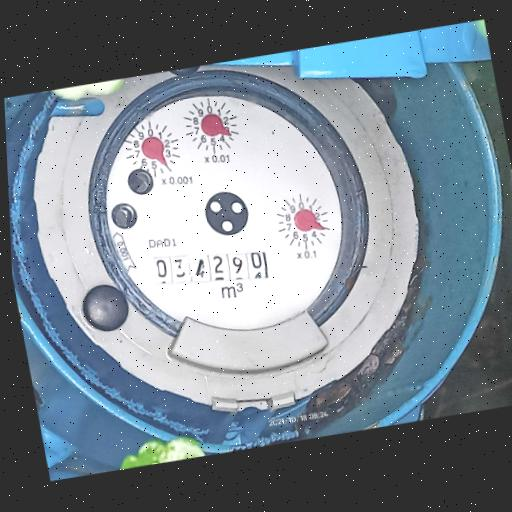0: (245, 250, 269, 280), (152, 255, 175, 285)
2: (207, 253, 232, 282)
3: (169, 255, 193, 285)
4: (188, 254, 213, 283)
9: (226, 252, 250, 281)
border_water_meter_number: (148, 236, 275, 299)
